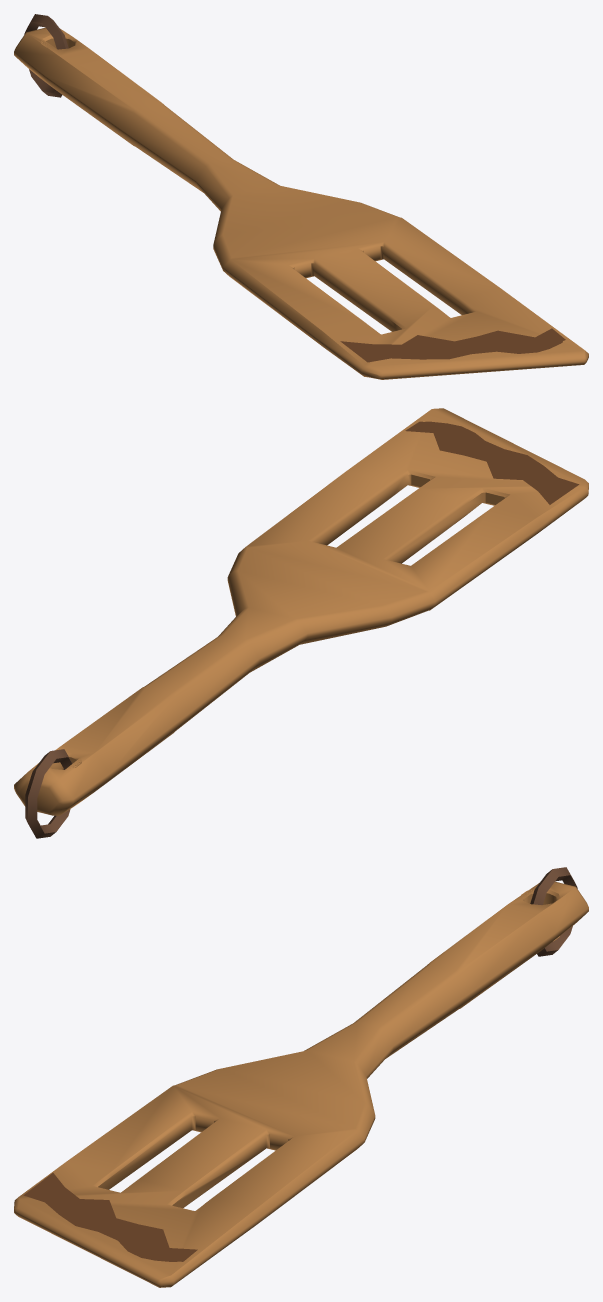
File: Cosmetic_Spatula_Wooden.fbx
3 views of the same model, one above another, from view 1: azimuth 30°, elevation 25°; view 2: azimuth 150°, elevation 25°; view 3: azimuth 330°, elevation 25° (orthographic). The views are drawn at different scales.
Parts seen in each view (by area): view 1: Wood, Scorch, Loop; view 2: Wood, Scorch, Loop; view 3: Wood, Scorch, Loop.
Boxes of the visible parts, left/top/right/bottom form: Wood: left=14, top=27, right=588, bottom=379; Scorch: left=340, top=328, right=565, bottom=362; Loop: left=24, top=14, right=68, bottom=97; Wood: left=14, top=408, right=588, bottom=815; Scorch: left=405, top=421, right=579, bottom=504; Loop: left=25, top=749, right=72, bottom=838; Wood: left=14, top=881, right=588, bottom=1287; Scorch: left=23, top=1173, right=197, bottom=1261; Loop: left=530, top=867, right=577, bottom=956.
Bounding box in the file's own units: 43.28 × 17.6 × 189.
